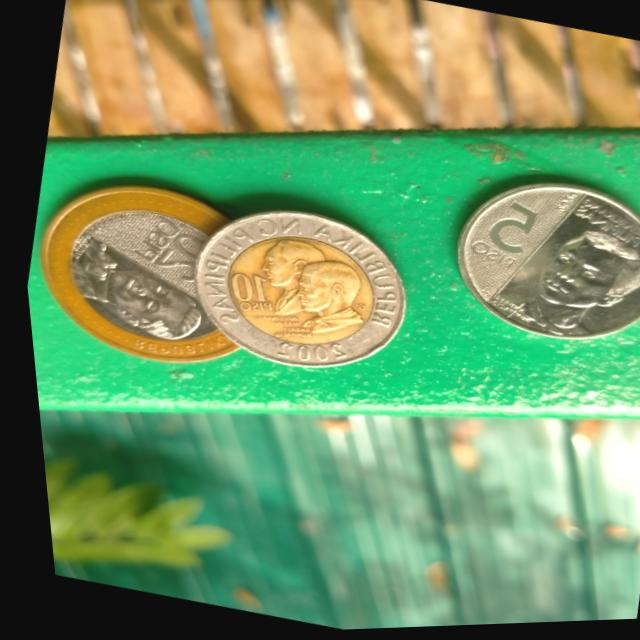10_Old_Front: (203, 253, 295, 339)
20_New_Front: (111, 203, 227, 301)
5_New_Front: (452, 193, 546, 284)
